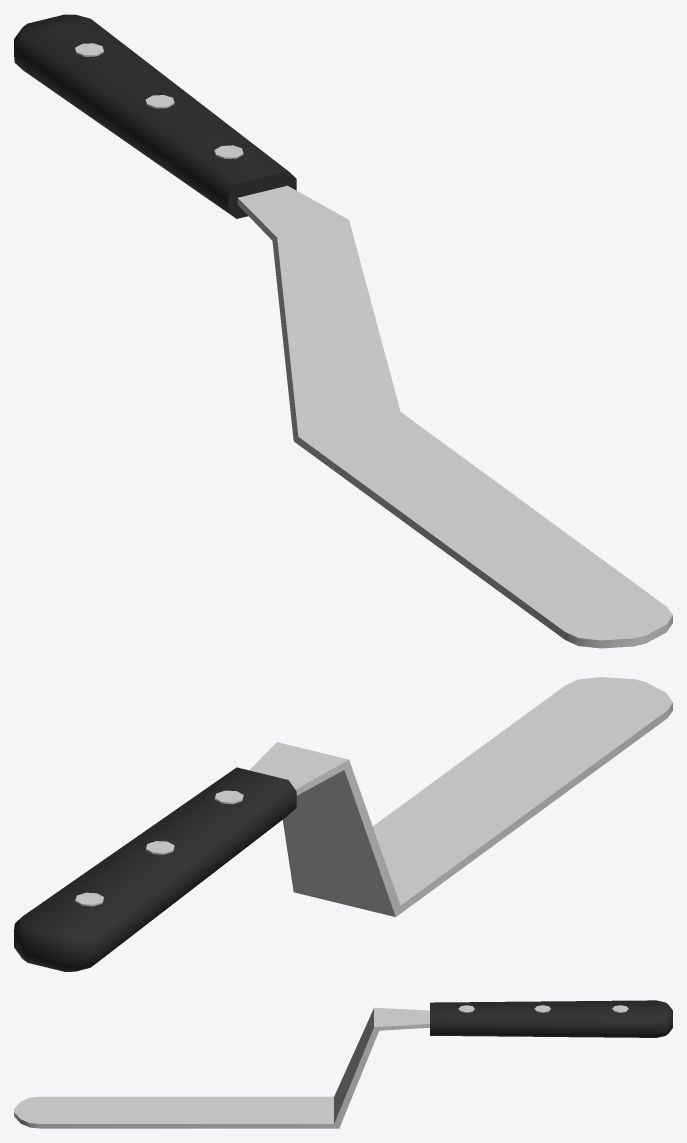
Rendered from PaletteKnife_Curved_01.fbx.
3 renders of one model, top to bottom at view 1: azimuth 30°, elevation 25°; view 2: azimuth 150°, elevation 25°; view 3: azimuth 270°, elevation 25°, orthographic. The views are drawn at different scales.
Parts seen in each view (by area): view 1: PaletteKnife_Curved_01; view 2: PaletteKnife_Curved_01; view 3: PaletteKnife_Curved_01.
Part boxes in pixels (left/top/right/bottom): PaletteKnife_Curved_01: left=14, top=14, right=672, bottom=648; PaletteKnife_Curved_01: left=14, top=677, right=672, bottom=971; PaletteKnife_Curved_01: left=14, top=1000, right=672, bottom=1128.
Size of the model in its own units: 0.0283 by 0.0511 by 0.2872.
